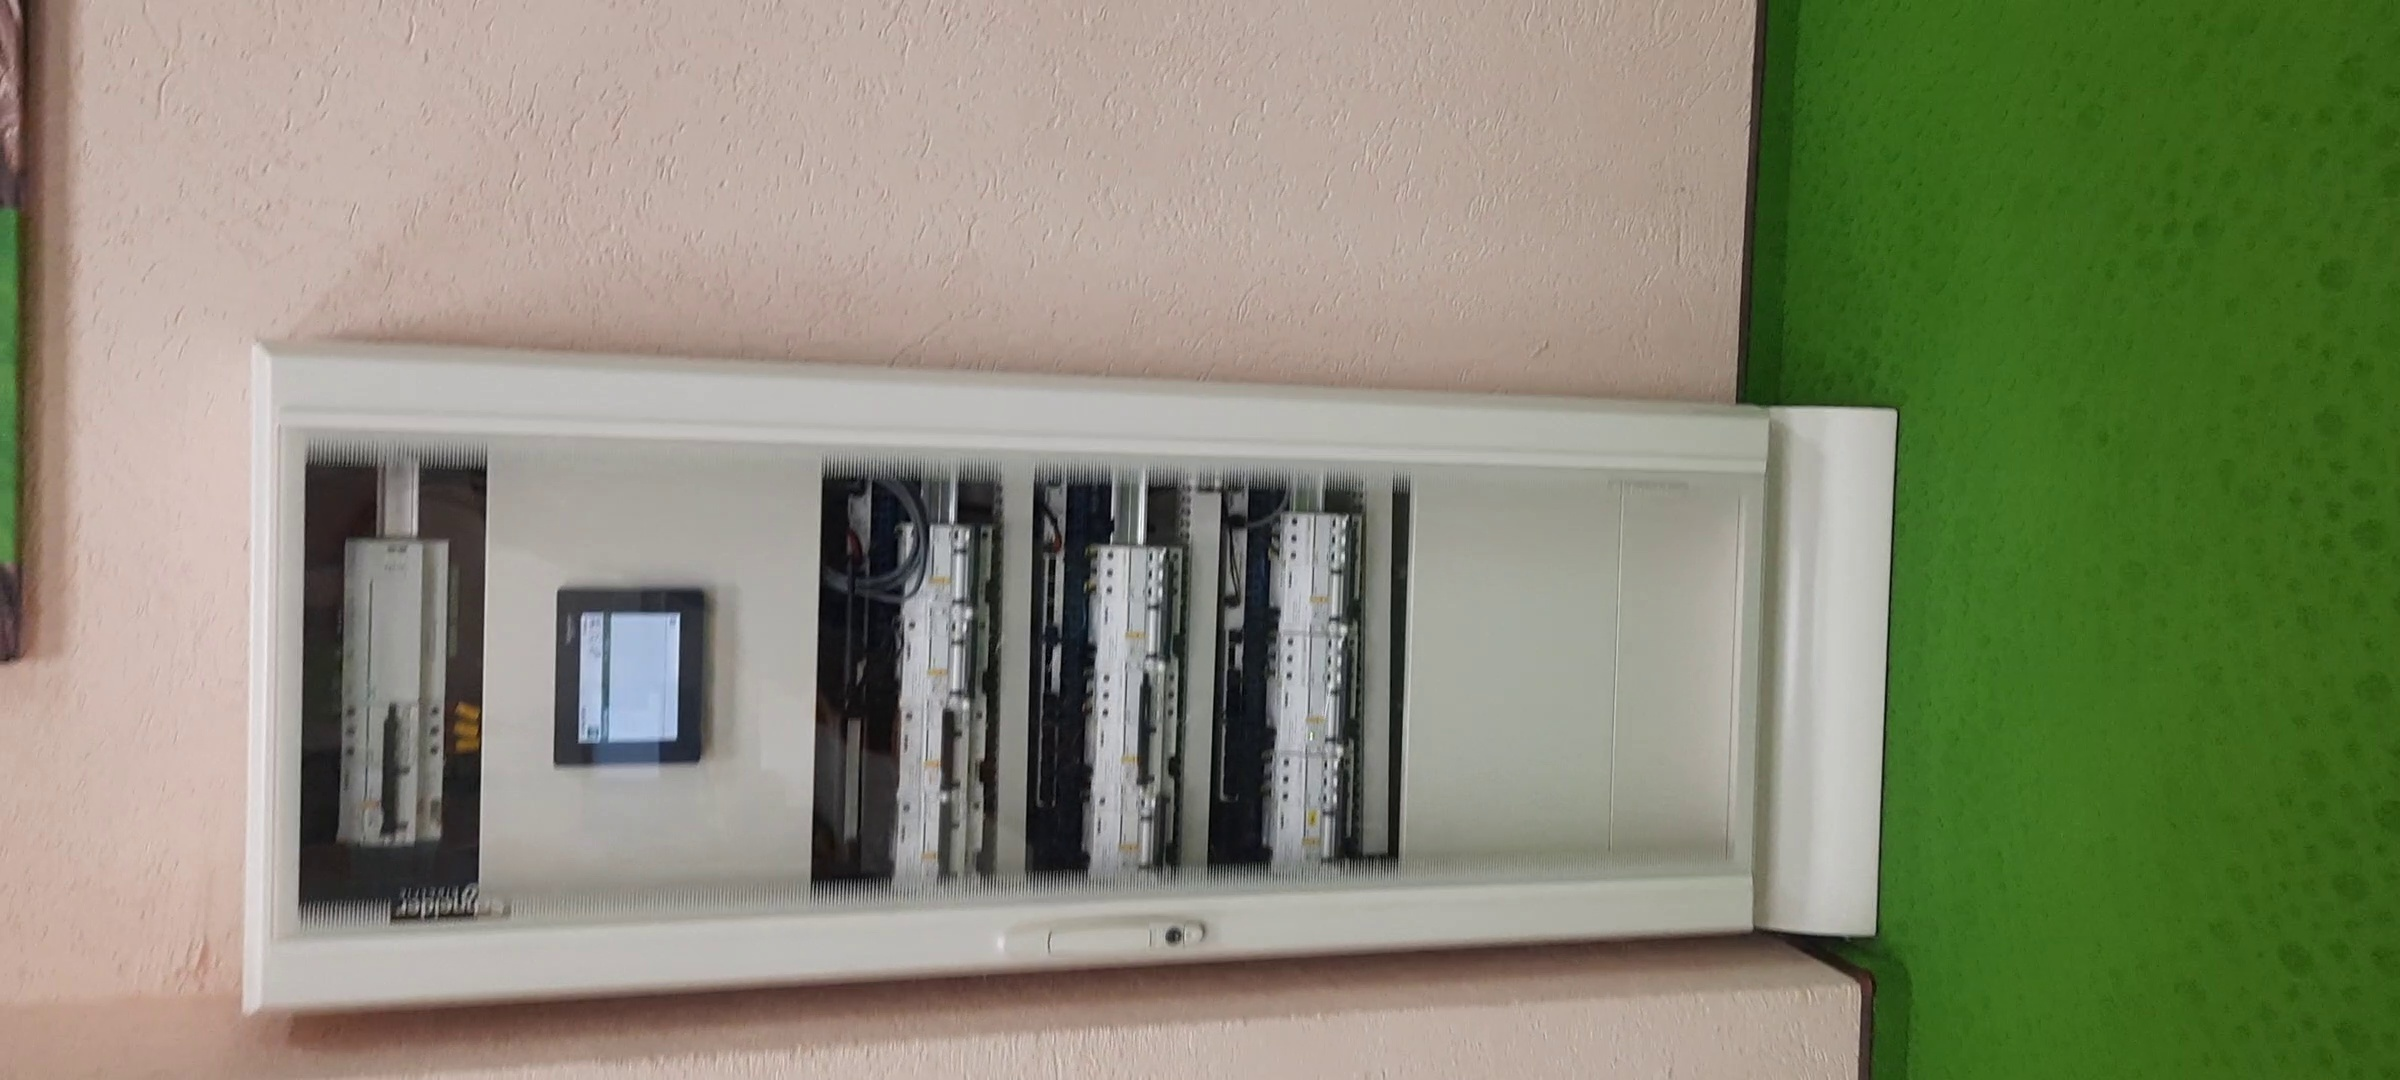smart_stand: (228, 369, 1890, 1022)
